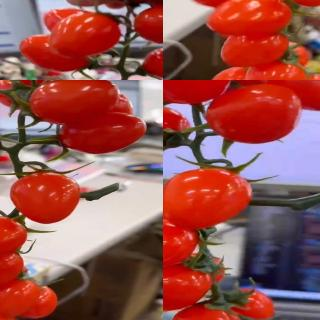tomato: (207, 86, 302, 146), (163, 166, 250, 229), (27, 80, 116, 127), (59, 114, 148, 157), (10, 170, 79, 223), (205, 0, 292, 39), (48, 11, 120, 58), (21, 35, 91, 74), (220, 31, 289, 69), (163, 263, 212, 311), (253, 80, 320, 112), (163, 216, 198, 270), (0, 80, 50, 116), (12, 284, 58, 320), (0, 277, 39, 318), (223, 290, 275, 320), (163, 80, 232, 102), (244, 59, 307, 80), (134, 4, 163, 45), (163, 104, 188, 150), (41, 6, 87, 30), (0, 216, 25, 258), (0, 251, 25, 291), (169, 307, 242, 320), (140, 45, 163, 79), (207, 64, 255, 80), (185, 0, 260, 8), (278, 70, 320, 80)
